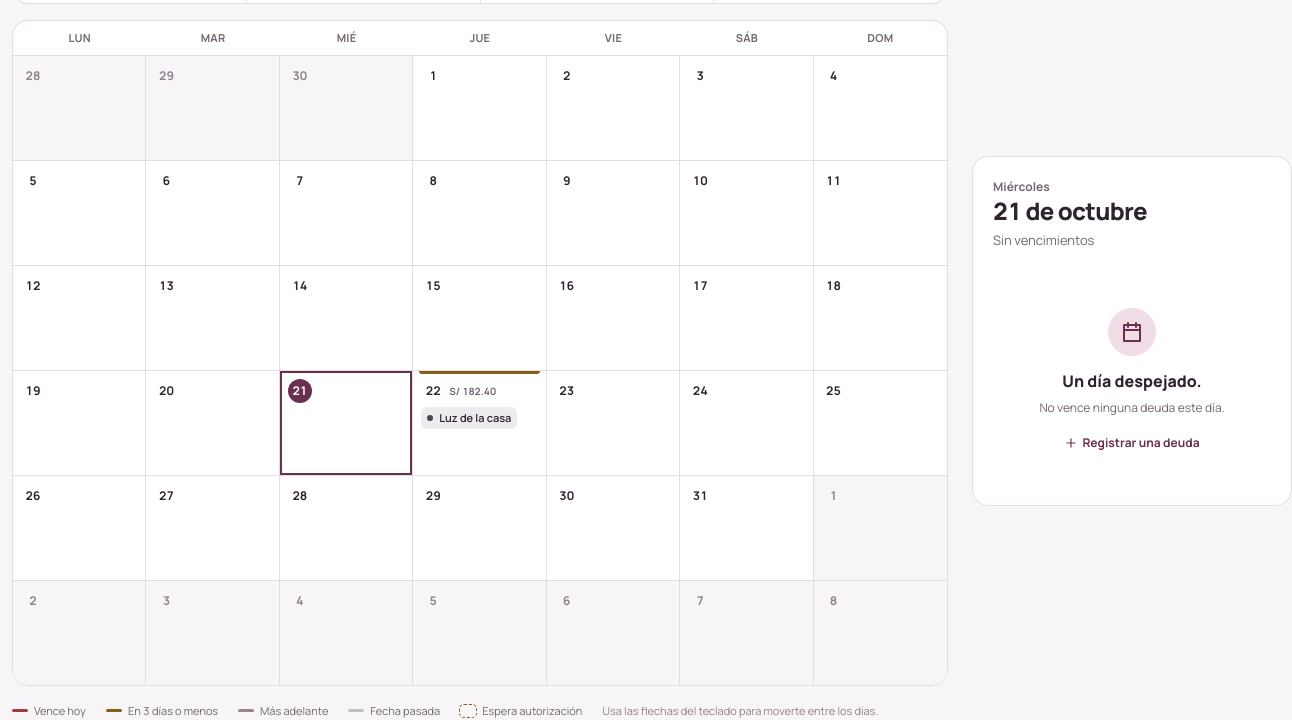
it: CalendarioView › al elegir un día muestra lo que vence y el día queda en la dirección
(page scrolled)
Expected: the element named "Vencimientos del 21 de octubre" shows "Un día despejado.", [1062,370,1202,392]
Click the button "22 S/ 182.40 Luz de la casa". click: (480, 423)
box: [413,371,546,475]
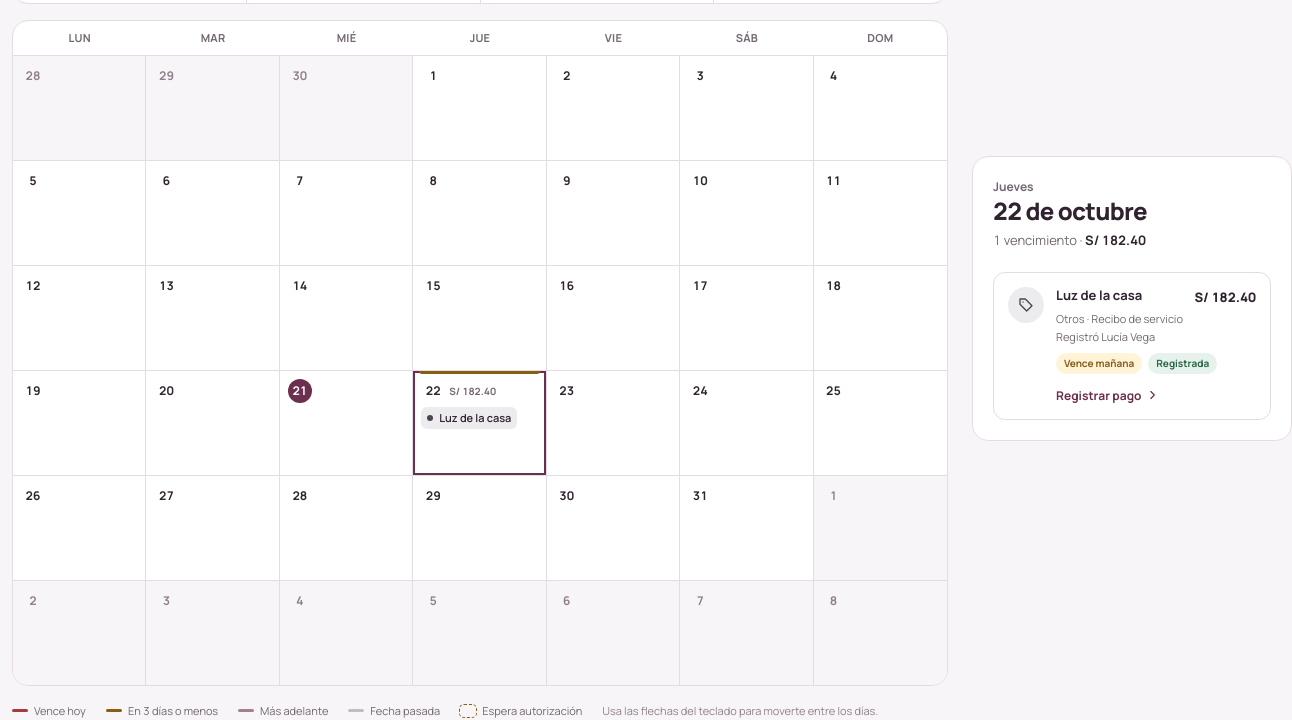
Result: the element named "Vencimientos del 22 de octubre" shows "Luz de la casa" at [1056,286,1142,304]
Result: the element named "Vencimientos del 22 de octubre" shows "182.40" at [1085,232,1146,250]
